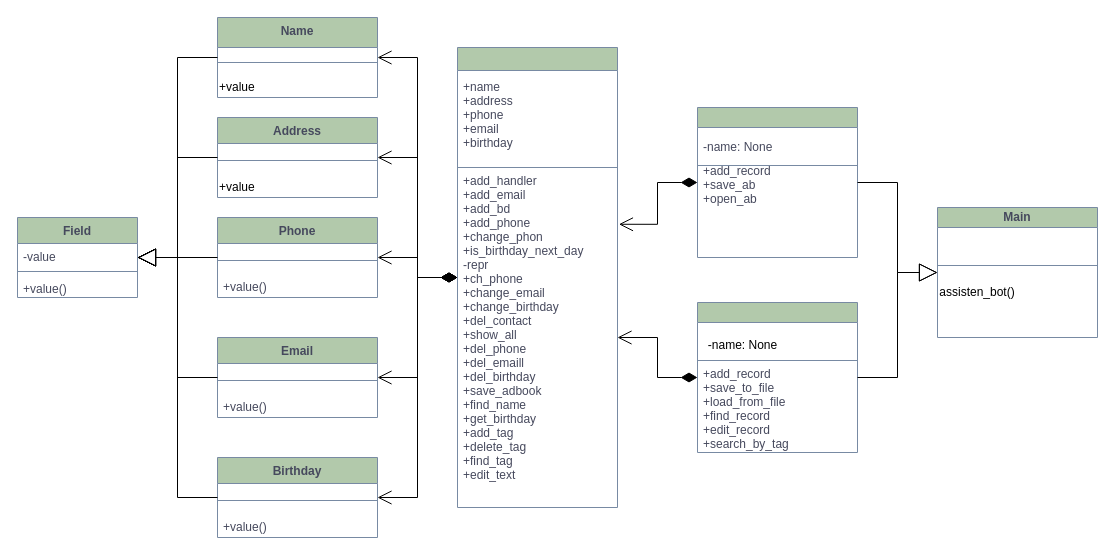
Some shapes in this 1116 by 555 pixel diagram are drawn without their labels. The shapes that lost their labels are listed below. From the top down, each one's box as (x1, y1, x2, y2) in pixels, then its label:
(696, 106, 858, 258): Addressbook
(456, 46, 618, 508): Record
(696, 302, 858, 452): Notebook
